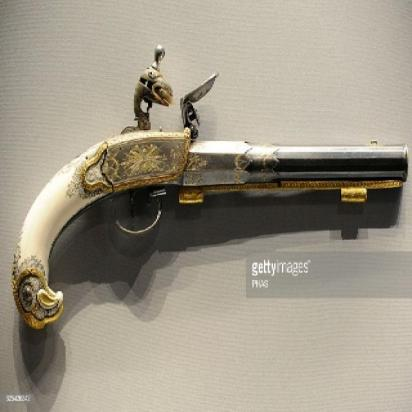Gun: (11, 35, 410, 338)
